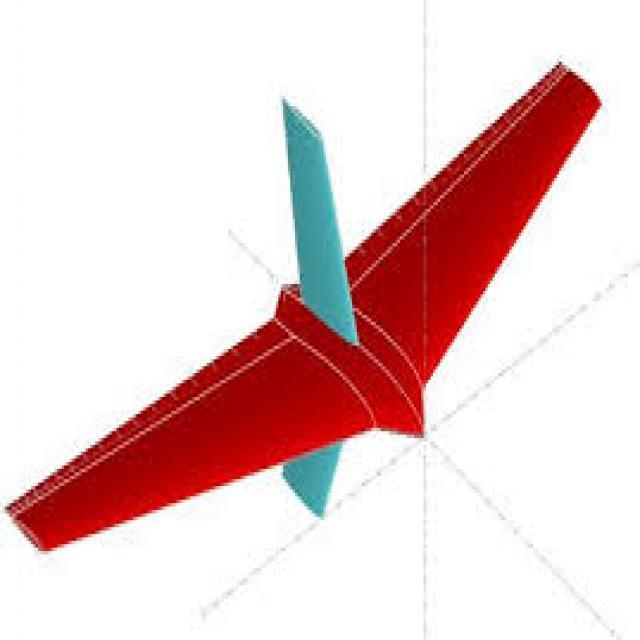UAV: (66, 88, 576, 546)
